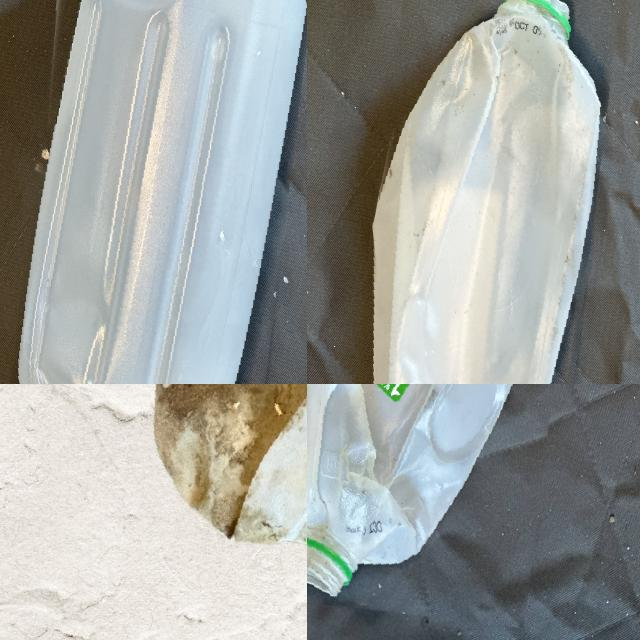milk-jug: (16, 0, 302, 384), (359, 0, 606, 384), (307, 384, 572, 621), (148, 384, 307, 554)
